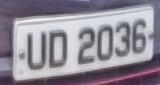0: (96, 21, 116, 66)
2: (76, 21, 98, 71)
3: (113, 19, 133, 63)
6: (130, 16, 148, 61)
D: (46, 25, 70, 73)
U: (24, 27, 47, 74)
